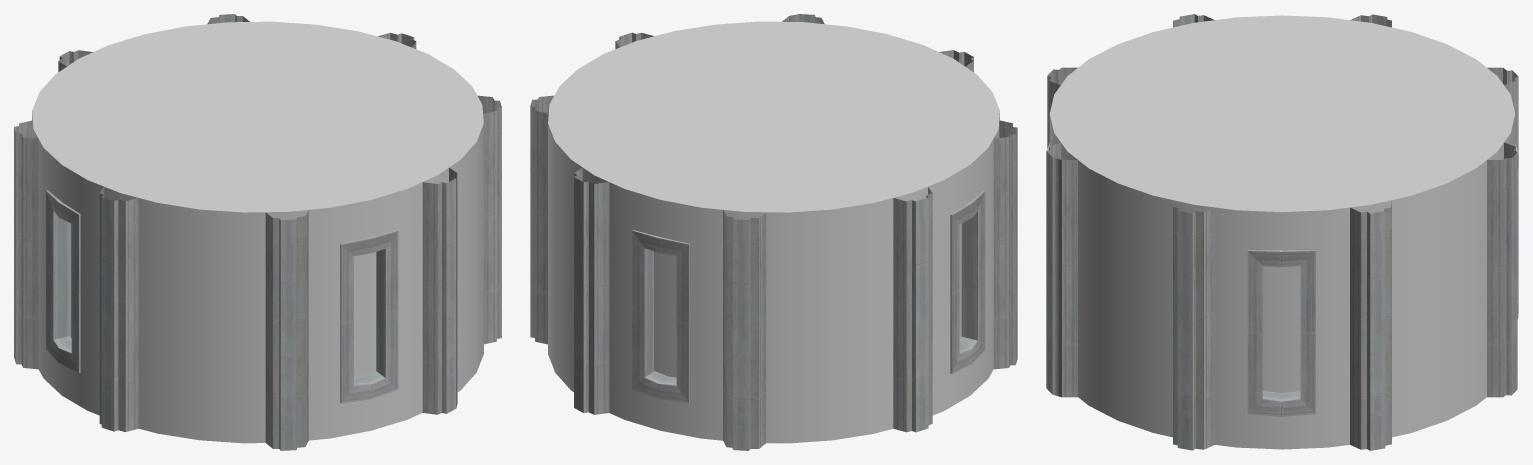
The model's file is SM_TowerB_Mid_03.fbx.
3 renders of one model, left to right at view 1: azimuth 30°, elevation 25°; view 2: azimuth 150°, elevation 25°; view 3: azimuth 270°, elevation 25°, orthographic. The views are drawn at different scales.
Parts seen in each view (by area): view 1: SM_TowerB_Mid_03_LOD0; view 2: SM_TowerB_Mid_03_LOD0; view 3: SM_TowerB_Mid_03_LOD0.
Boxes of the visible parts, x1,y1,x2,y2 form: SM_TowerB_Mid_03_LOD0: [14, 14, 501, 450]; SM_TowerB_Mid_03_LOD0: [530, 14, 1017, 450]; SM_TowerB_Mid_03_LOD0: [1046, 14, 1518, 450].
Size of what is drawn, in the model's own units: 8.12 by 4.5 by 8.12.
